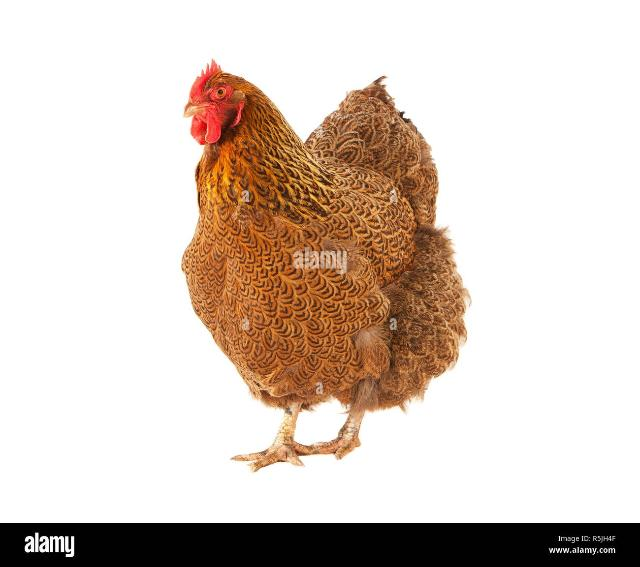Chicken: (183, 60, 470, 476)
